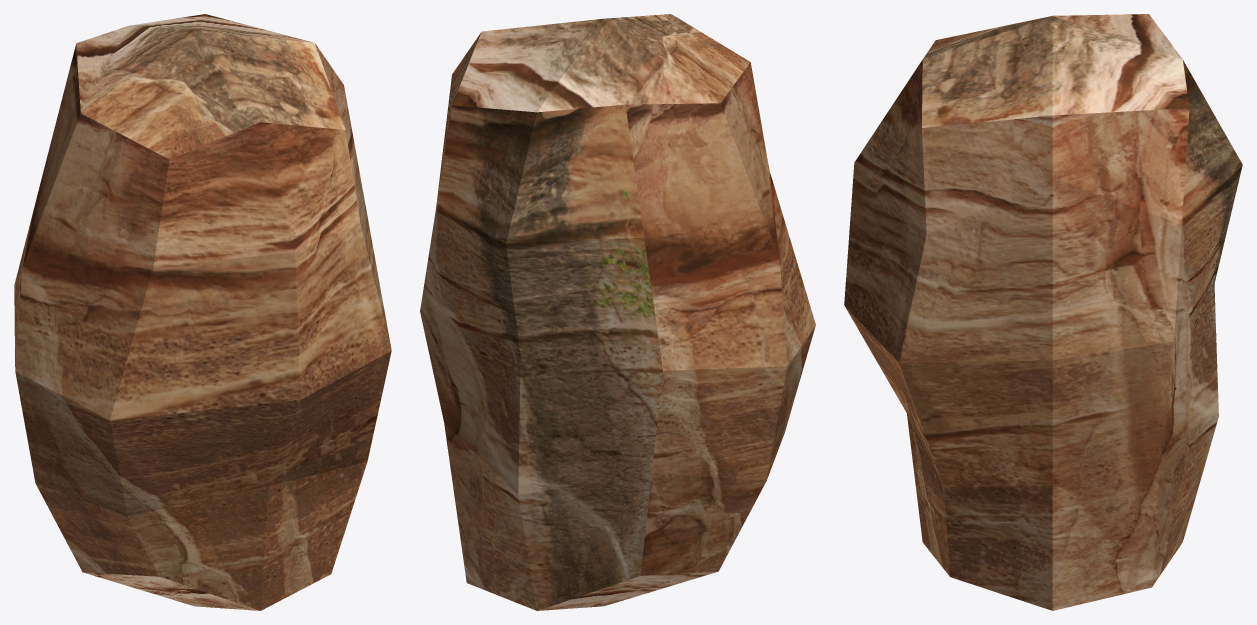
File: Rock_big.fbx
3 renders of one model, left to right at view 1: azimuth 30°, elevation 25°; view 2: azimuth 150°, elevation 25°; view 3: azimuth 270°, elevation 25°, orthographic. The views are drawn at different scales.
Parts seen in each view (by area): view 1: pCube2; view 2: pCube2; view 3: pCube2.
Boxes of the visible parts, <box> form: pCube2: <box>14,14,391,610</box>; pCube2: <box>420,14,815,610</box>; pCube2: <box>844,14,1242,610</box>.
Bounding box in the file's own units: 29.98 × 48.78 × 30.96.
Materials: 1 (1 with a texture image).
